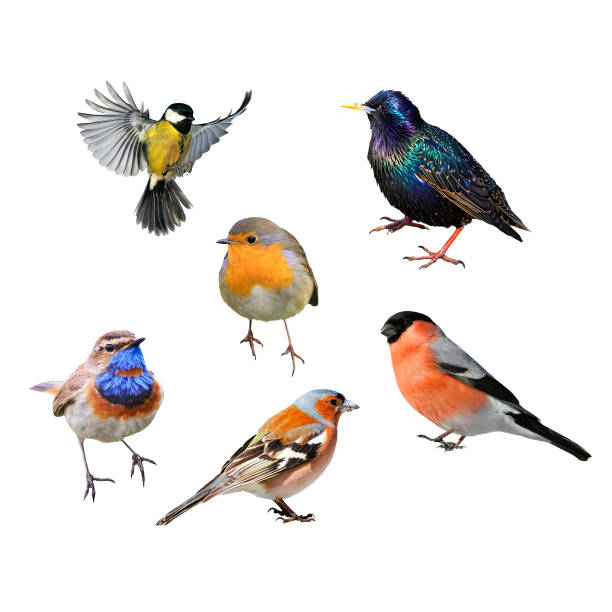Bird: (336, 84, 528, 272), (376, 303, 594, 468), (158, 386, 361, 533), (76, 74, 255, 237), (26, 323, 161, 510), (215, 212, 326, 373)
